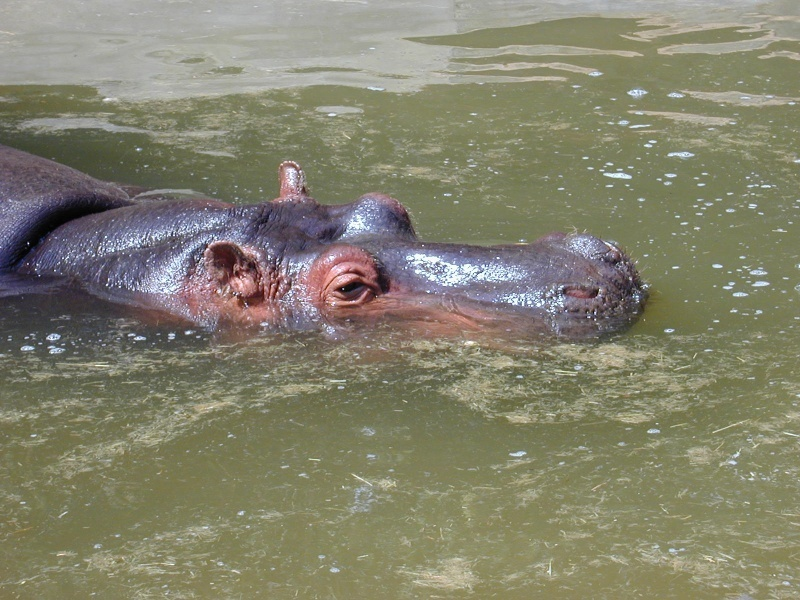hipopotamo: (1, 134, 662, 379)
